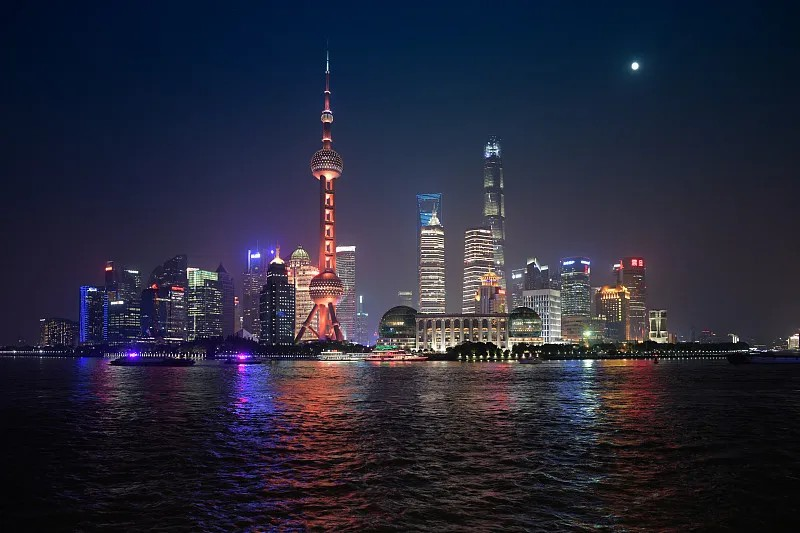Oriental: (296, 44, 343, 341)
